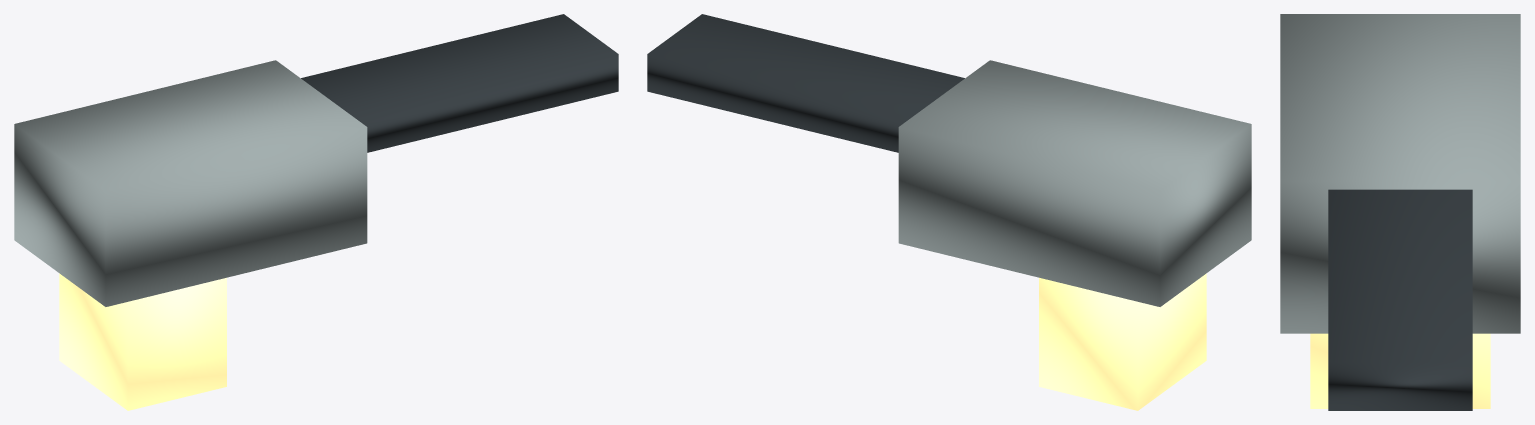
Rendered from weapon-breacher-lod2.glb.
The picture shows the model from 3 angles, left to right: view 1: azimuth 30°, elevation 25°; view 2: azimuth 150°, elevation 25°; view 3: azimuth 270°, elevation 25°; orthographic projection. The views are drawn at different scales.
Parts seen in each view (by area): view 1: breacher-receiver, breacher-twin-barrel, breacher-feed; view 2: breacher-receiver, breacher-twin-barrel, breacher-feed; view 3: breacher-receiver, breacher-twin-barrel, breacher-feed.
Part boxes in pixels (box(x1,y1,x2,y2)): breacher-receiver: box(14, 60, 367, 306); breacher-twin-barrel: box(301, 14, 618, 152); breacher-feed: box(59, 273, 226, 410); breacher-receiver: box(898, 60, 1251, 306); breacher-twin-barrel: box(647, 14, 964, 152); breacher-feed: box(1039, 273, 1206, 410); breacher-receiver: box(1280, 14, 1520, 333); breacher-twin-barrel: box(1328, 189, 1472, 410); breacher-feed: box(1310, 333, 1490, 408).
Bounding box in the file's own units: 1.34 × 0.57 × 0.4.
